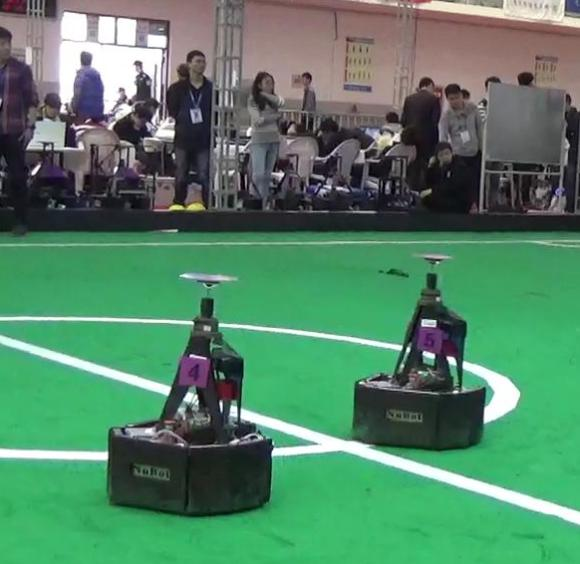robot: (91, 255, 287, 523), (346, 236, 500, 457)
